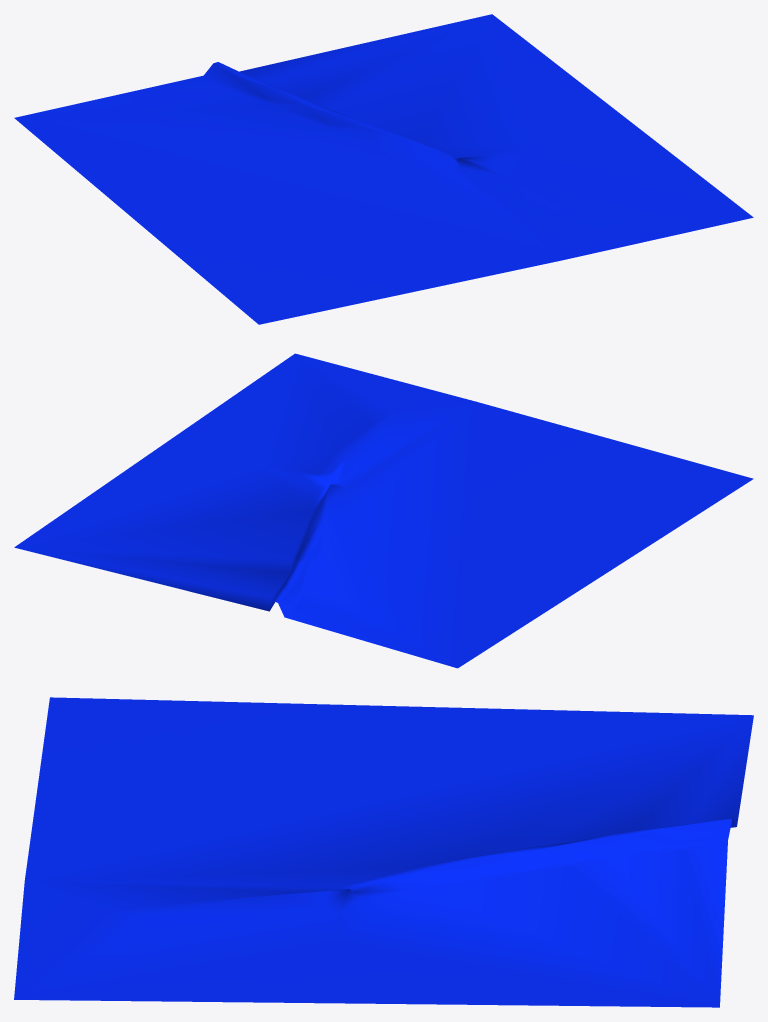
File: Carpet03.fbx
The picture shows the model from 3 angles, top to bottom: view 1: azimuth 30°, elevation 25°; view 2: azimuth 150°, elevation 25°; view 3: azimuth 270°, elevation 25°; orthographic projection. The views are drawn at different scales.
Parts seen in each view (by area): view 1: Carpet03; view 2: Carpet03; view 3: Carpet03.
Part boxes in pixels (x1,y1,x2,y2): Carpet03: (14, 14, 753, 324); Carpet03: (14, 353, 753, 668); Carpet03: (14, 697, 753, 1007).
Size of the model in its own units: 82.13 by 2.3 by 82.81.
